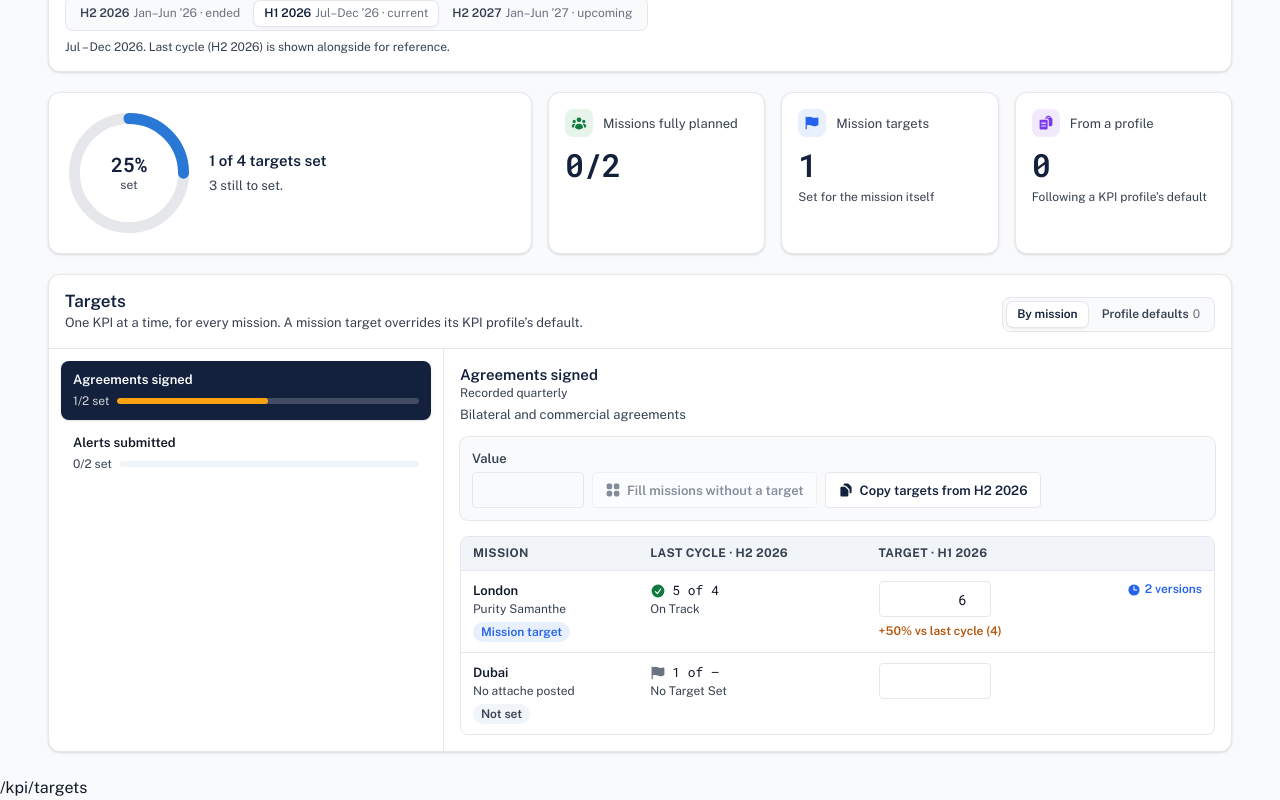
Test: SetKpiTargetsPage › asks before switching cycle with unsaved changes
(page scrolled)
Expected: the row with test id "kpi-target-row-mission-dubai" is shown, x1=461 y1=653 x2=1214 y2=734
Type "3" into the number field named "Target for Dubai, Agreements signed".
click(935, 681); type("3")  # box x1=879 y1=663 x2=991 y2=699
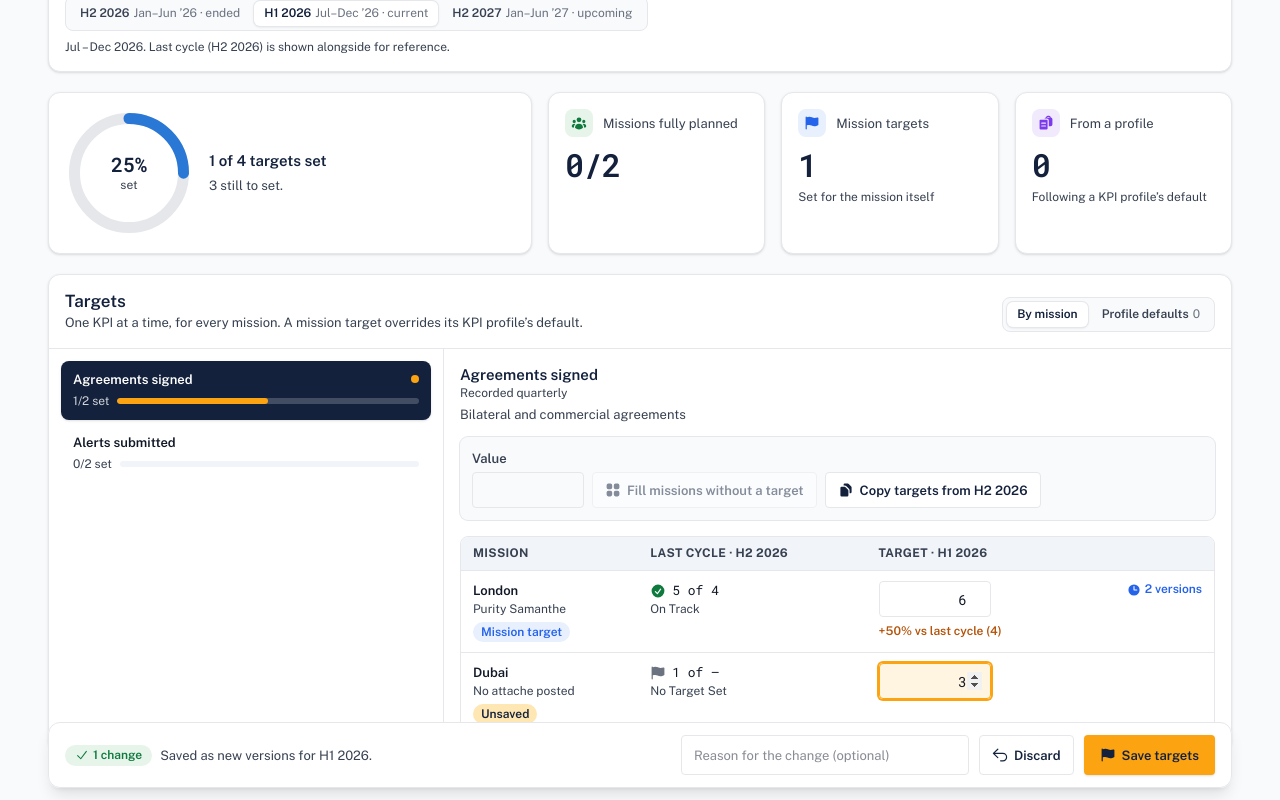
Click the radio button labelled "H2 2027Jan–Jun ’27 · upcoming".
click(542, 13)  # box x1=442 y1=1 x2=642 y2=26
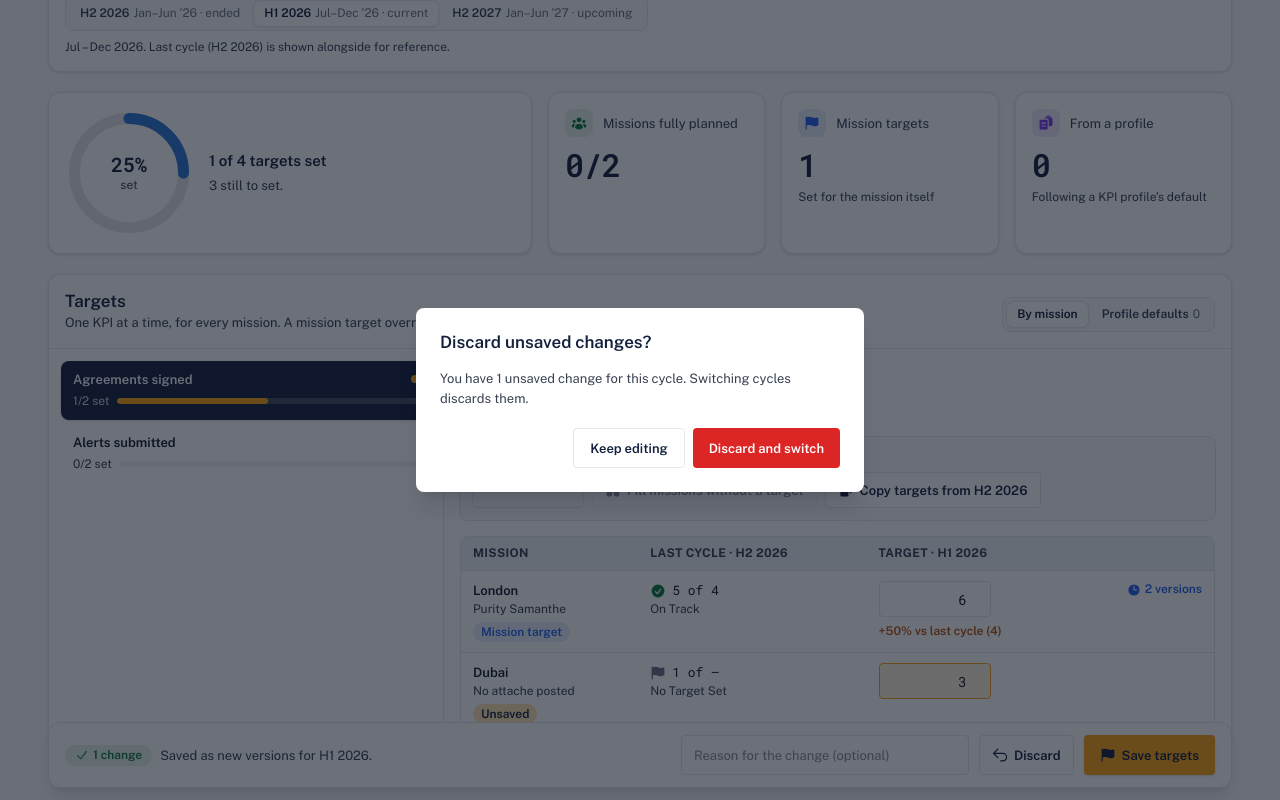
Result: the heading "Discard unsaved changes?" is shown at x1=440 y1=332 x2=652 y2=352
Click the button "Discard and switch".
click(766, 448)  # box x1=693 y1=428 x2=840 y2=468
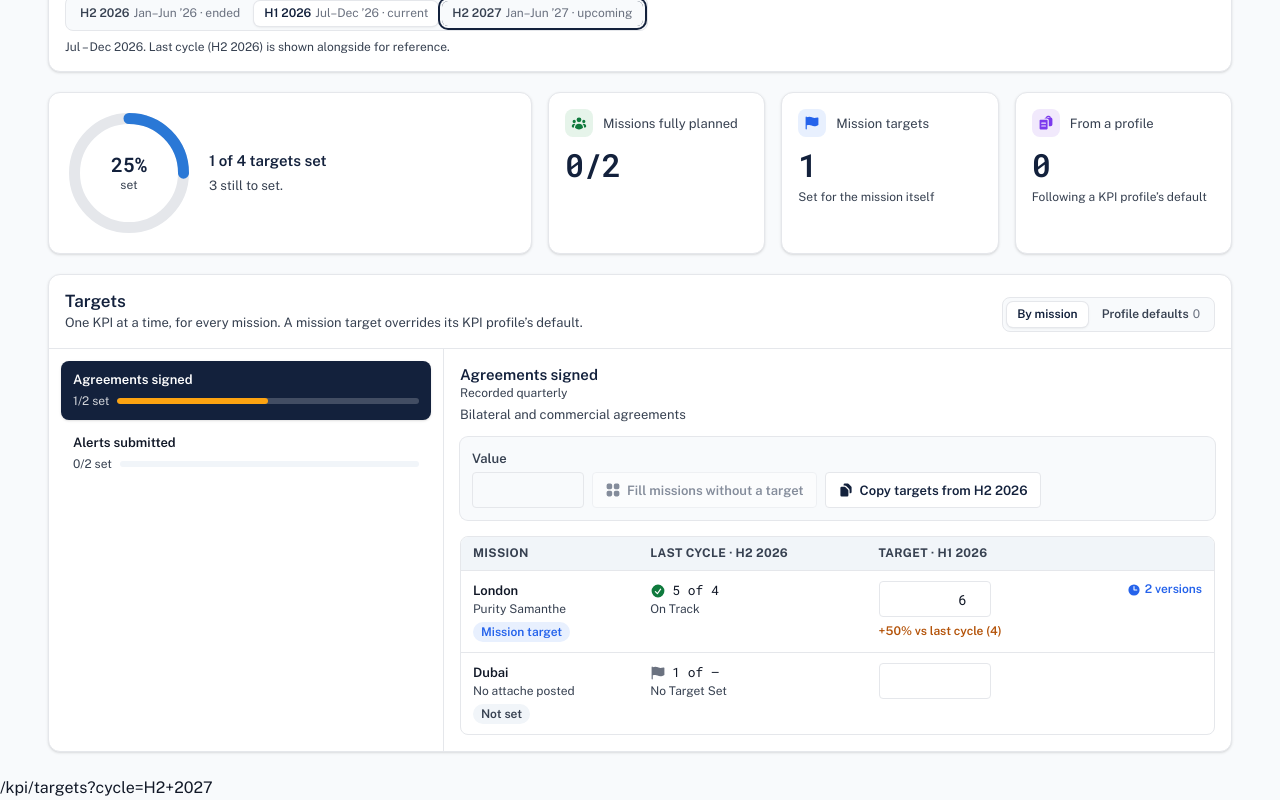
Result: the text with test id "location" shows "cycle=H2+2027" at x1=0 y1=778 x2=213 y2=797
